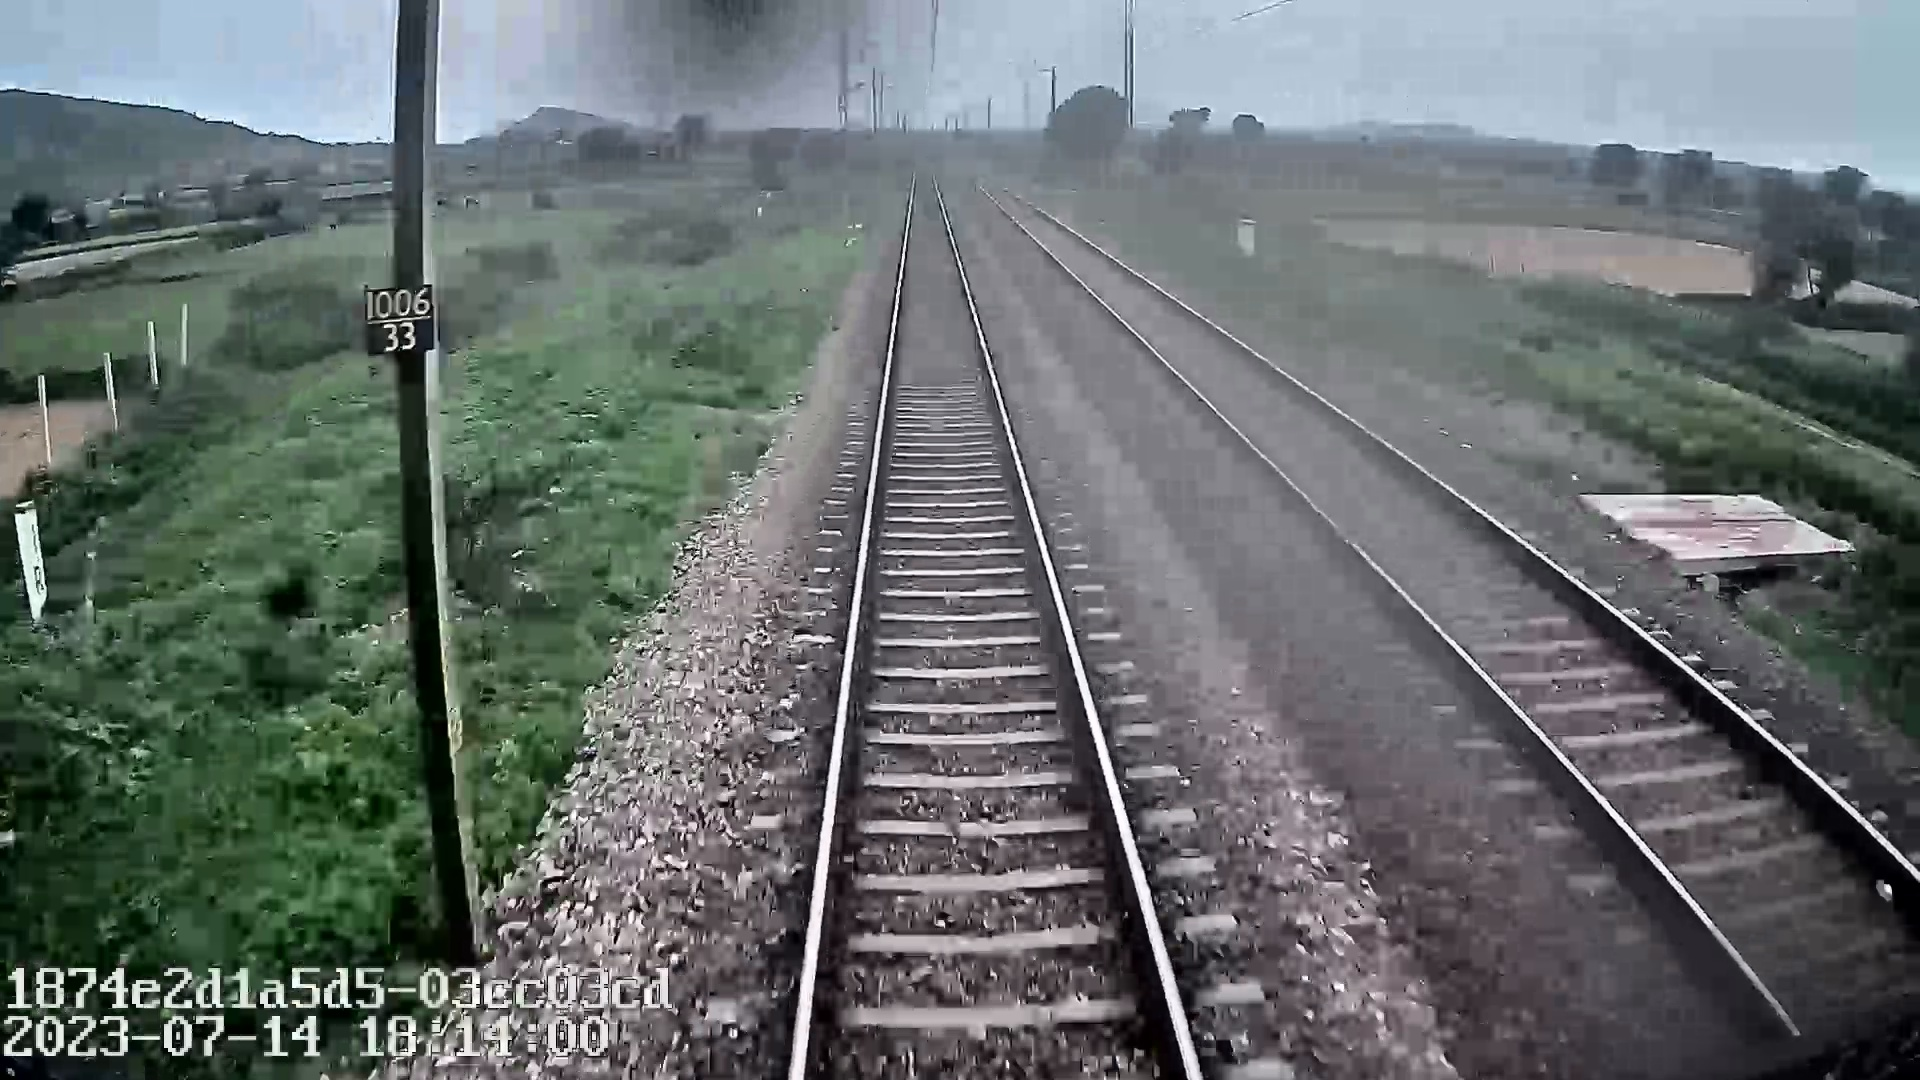track1: (798, 178, 1193, 1068)
track2: (976, 183, 1919, 1027)
